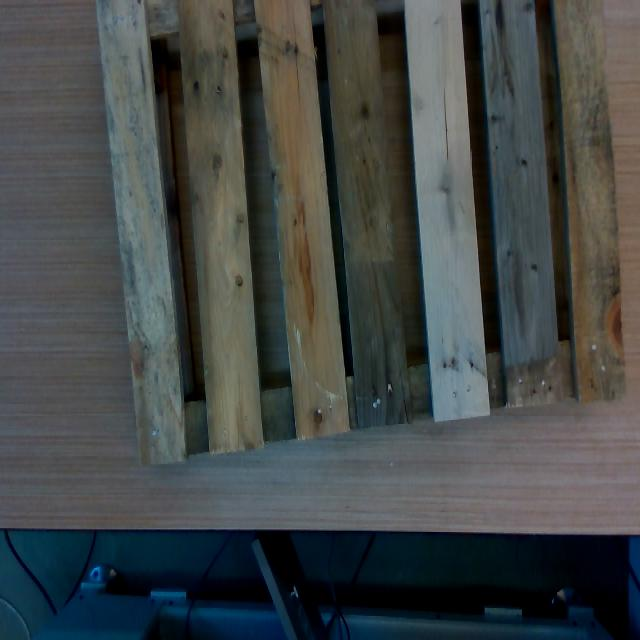pallet: (99, 0, 625, 462)
